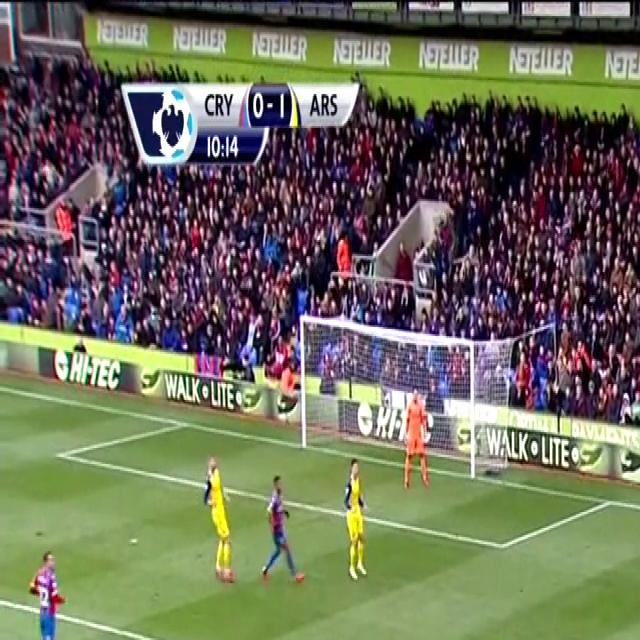goalkeeper: (394, 386, 439, 496)
soccer-player: (188, 454, 242, 597), (255, 471, 312, 597), (12, 544, 79, 640), (337, 457, 385, 591), (629, 618, 640, 640)
